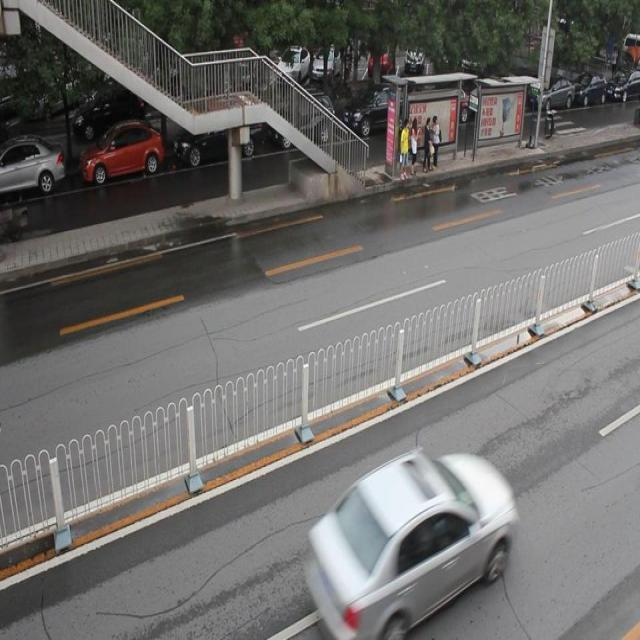car: (303, 448, 516, 640), (175, 100, 264, 163), (81, 121, 164, 186), (343, 82, 412, 138), (1, 137, 65, 197), (272, 91, 334, 150)
